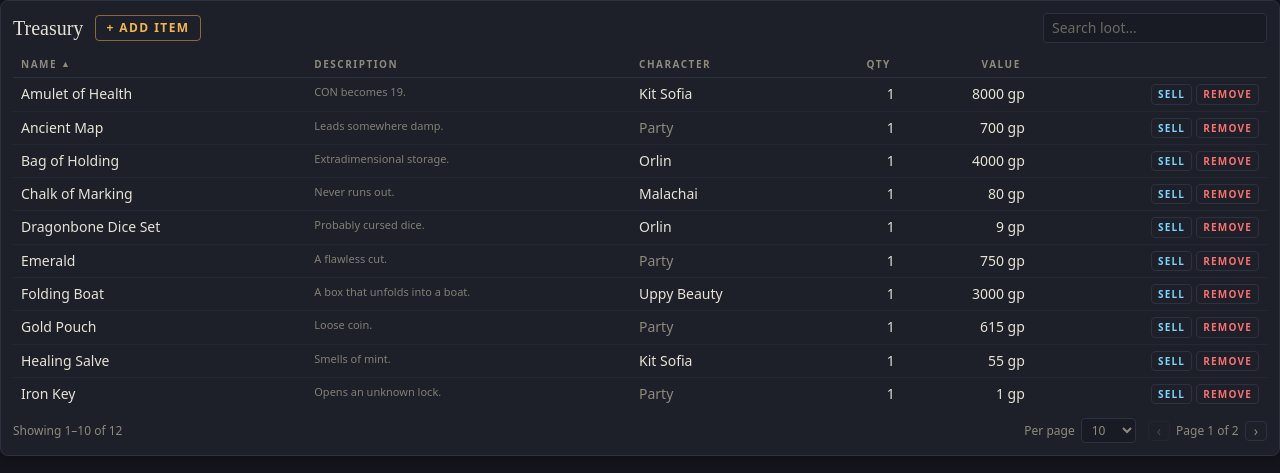
Test: LootTable — sorting › sorts by value numerically, toggling direction on a second click
Click the button with test id "loot-sort-value": [968, 64] box [903, 51, 1033, 77]
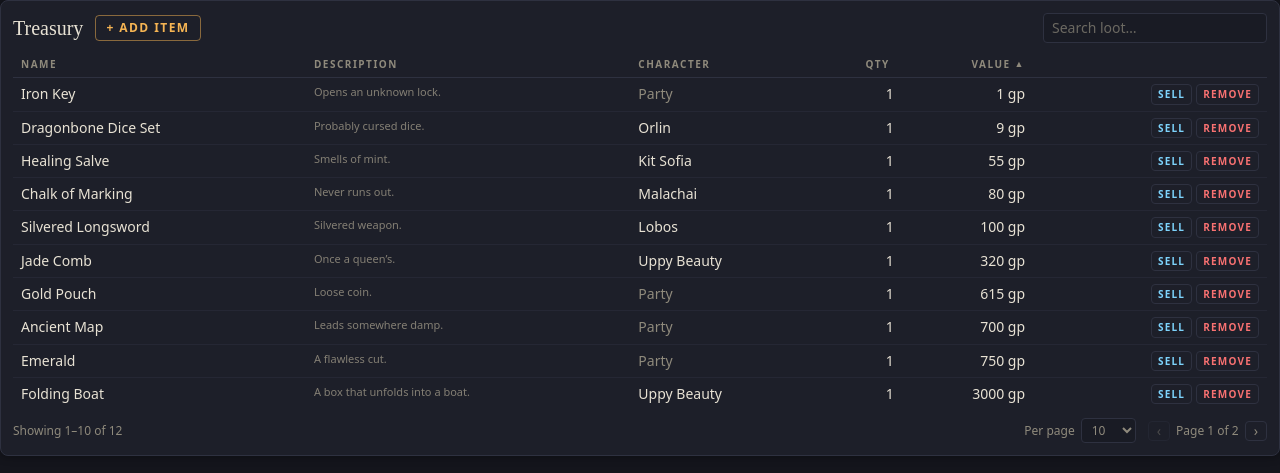
Result: the column heading "Value ▲" has attribute aria-sort="ascending"
Click the button with test id "loot-sort-value": [967, 64] box [902, 51, 1033, 77]
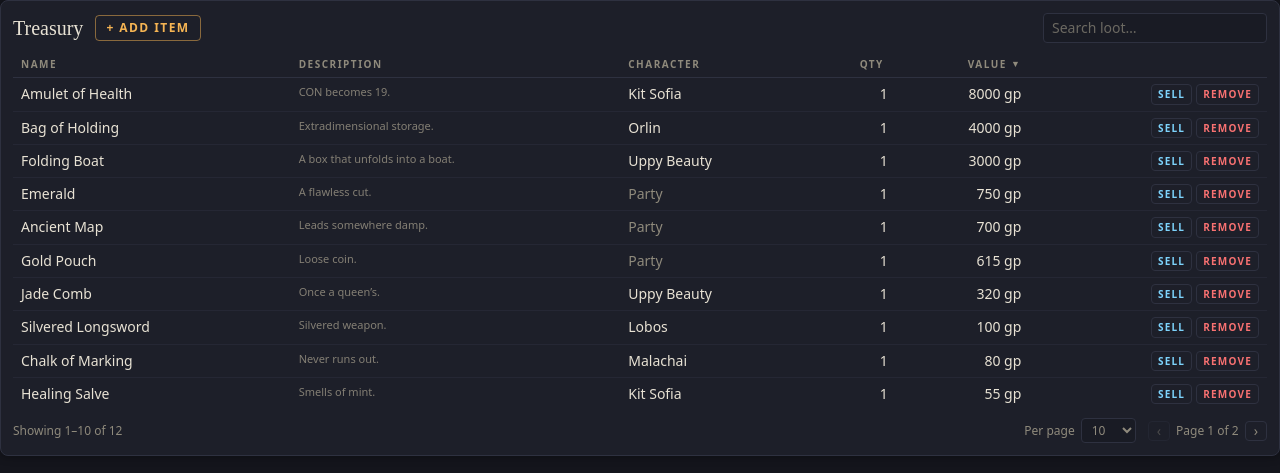
Result: the cell "Amulet of Health" is shown at [13, 78, 291, 111]
